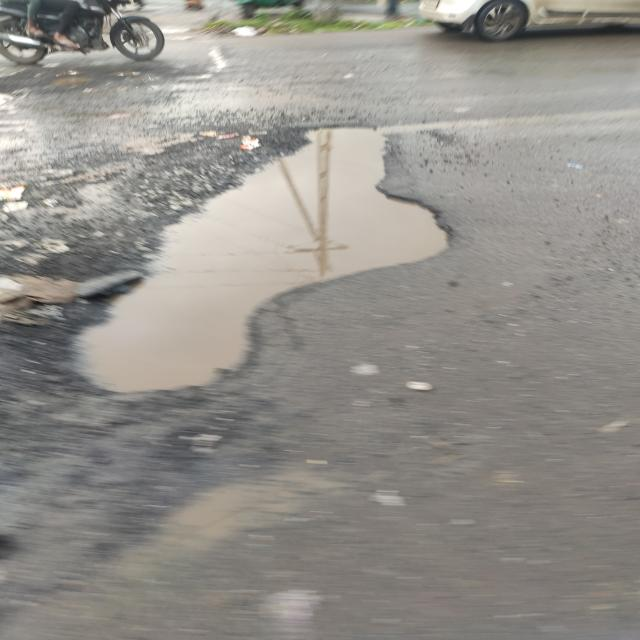potholes: (54, 117, 463, 406)
